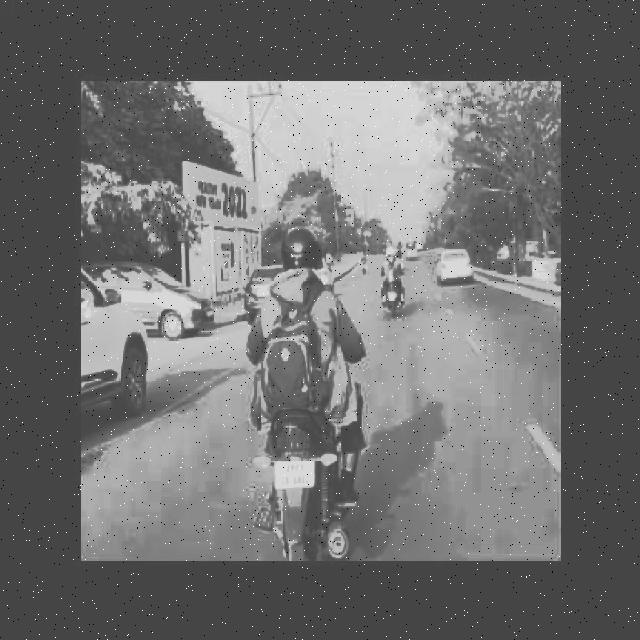Car: (77, 261, 152, 424), (112, 252, 215, 348), (428, 231, 485, 291)
